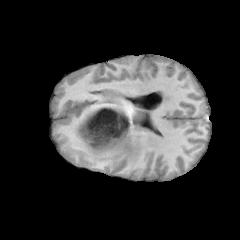glioma: (77, 90, 152, 170)
